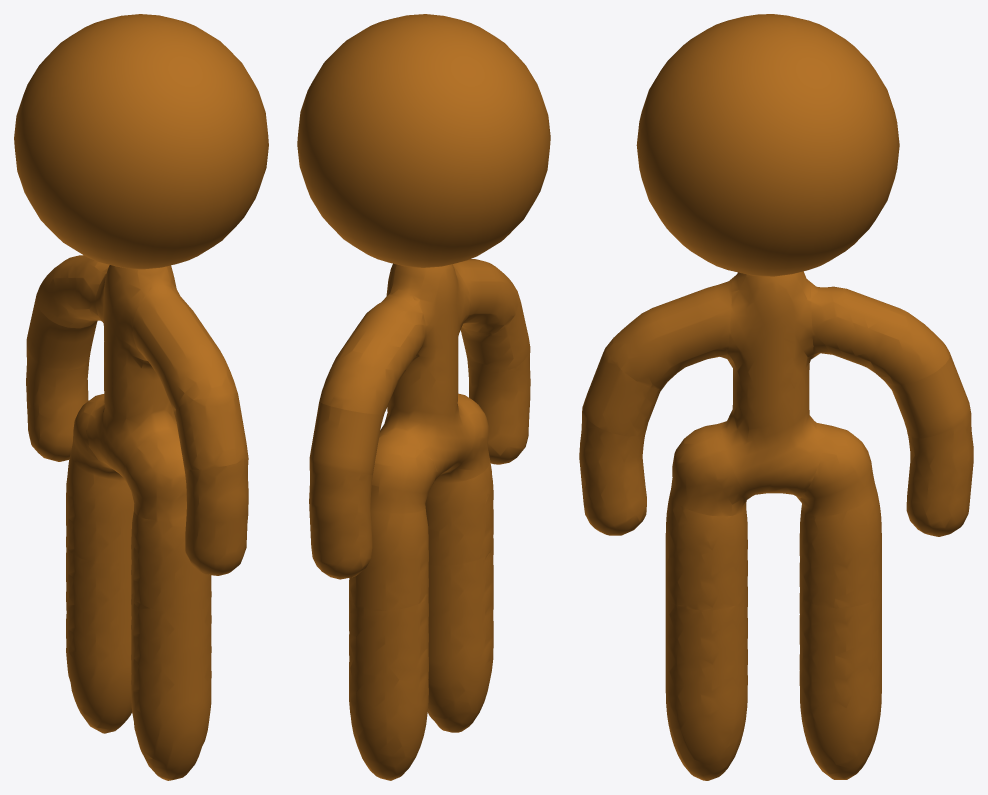
File: karakter_3.fbx
The picture shows the model from 3 angles, left to right: view 1: azimuth 30°, elevation 25°; view 2: azimuth 150°, elevation 25°; view 3: azimuth 270°, elevation 25°; orthographic projection. The views are drawn at different scales.
Visible parts, largest first — view 1: Sphere, Mball.007, Mball.010, Mball.011, Mball.003, Mball.001, Mball.008, Mball.012, Mball.006, Mball.002, Mball.009, Mball.004 (+2 smaller); view 2: Sphere, Mball.011, Mball.010, Mball.007, Mball.004, Mball.006, Mball.012, Mball.008, Mball.001, Mball.013, Mball.005, Mball.003 (+2 smaller); view 3: Sphere, Mball.010, Mball.011, Mball.007, Mball.004, Mball.003, Mball.008, Mball.012, Mball.001, Mball.006, Mball.009, Mball.013 (+2 smaller).
Boxes of the visible parts, x1,y1,x2,y2 form: Sphere: (14,14,268,269); Mball.007: (131,595,211,780); Mball.010: (71,265,236,480); Mball.011: (66,544,132,733); Mball.003: (132,284,237,413); Mball.001: (184,458,248,575); Mball.008: (131,511,211,612); Mball.012: (66,451,134,563); Mball.006: (26,346,89,461); Mball.002: (174,393,248,469); Mball.009: (124,430,186,520); Mball.004: (36,255,109,328); Sphere: (297,14,550,267); Mball.011: (349,596,428,780); Mball.010: (379,263,474,643); Mball.007: (427,548,493,732); Mball.004: (319,289,426,414); Mball.006: (309,461,372,579); Mball.012: (349,508,428,610); Mball.008: (425,458,493,565); Mball.001: (467,348,530,464); Mball.013: (370,435,437,513); Mball.005: (309,402,384,474); Mball.003: (452,259,518,336); Sphere: (636,14,899,276); Mball.010: (582,271,879,605); Mball.011: (799,592,881,779); Mball.007: (665,595,747,780); Mball.004: (810,282,949,385); Mball.003: (607,278,732,389); Mball.008: (665,492,747,610); Mball.012: (799,487,881,607); Mball.001: (579,411,646,535); Mball.006: (906,407,973,536); Mball.009: (670,422,750,516); Mball.013: (798,425,875,516).
Size of the model in its own units: 178 by 562 by 267.
